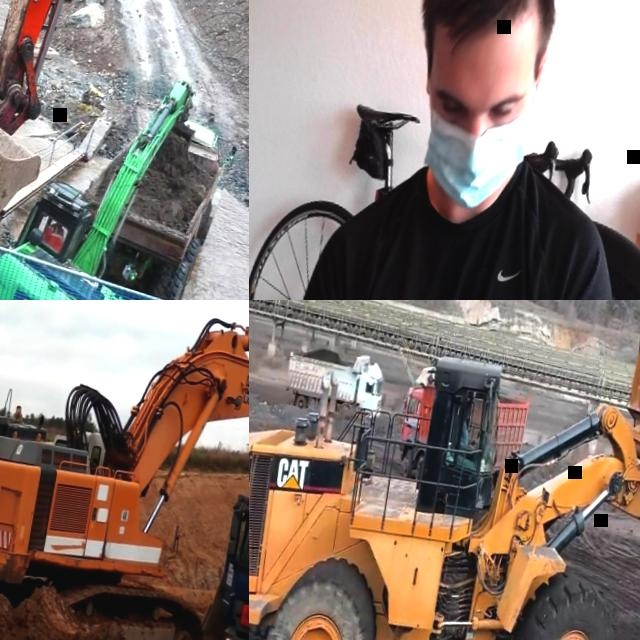Mask: (413, 86, 536, 215)
NO-Hardhat: (419, 0, 568, 36), (465, 399, 474, 410)
NO-Mask: (465, 413, 473, 422)
NO-Safety Vest: (315, 158, 600, 300), (460, 422, 473, 450)
Person: (266, 0, 640, 300), (455, 398, 487, 467), (44, 220, 68, 252)
Safety Vest: (47, 223, 67, 249)
machinery: (249, 300, 640, 640), (0, 300, 249, 640), (0, 56, 198, 300), (0, 0, 126, 300), (391, 356, 539, 496), (0, 300, 72, 556), (280, 338, 392, 426)
